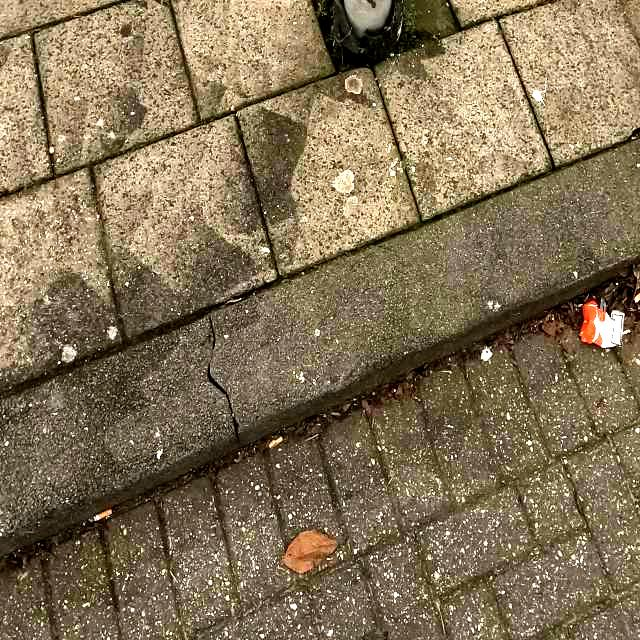Paper: (578, 299, 626, 349)
